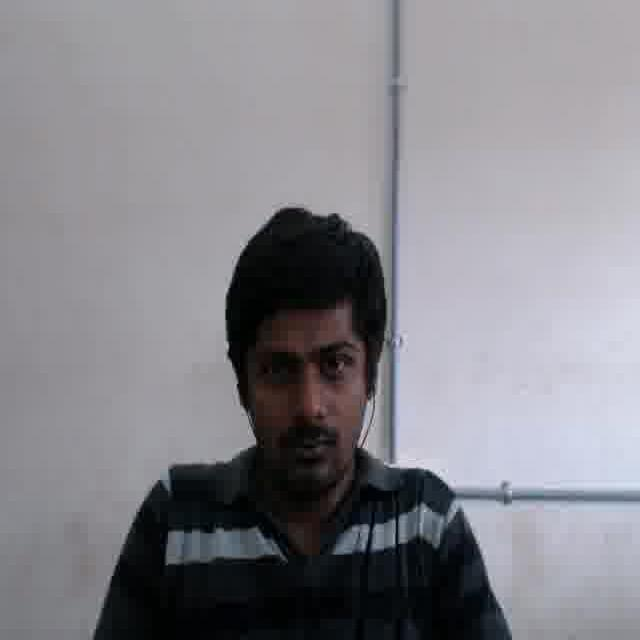Engaged: (244, 300, 361, 487)
